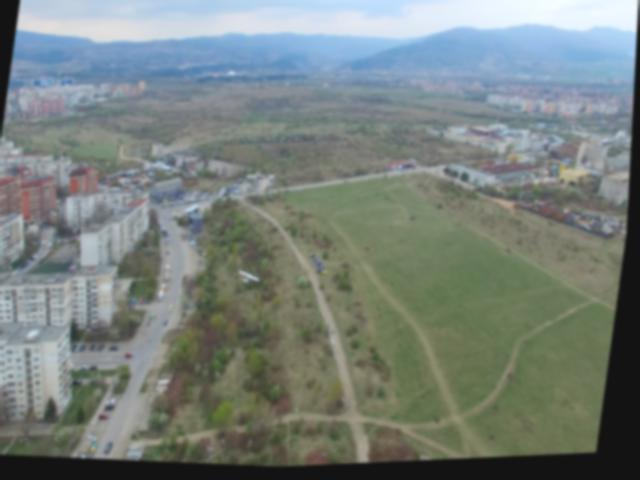plane: (241, 271, 265, 287)
